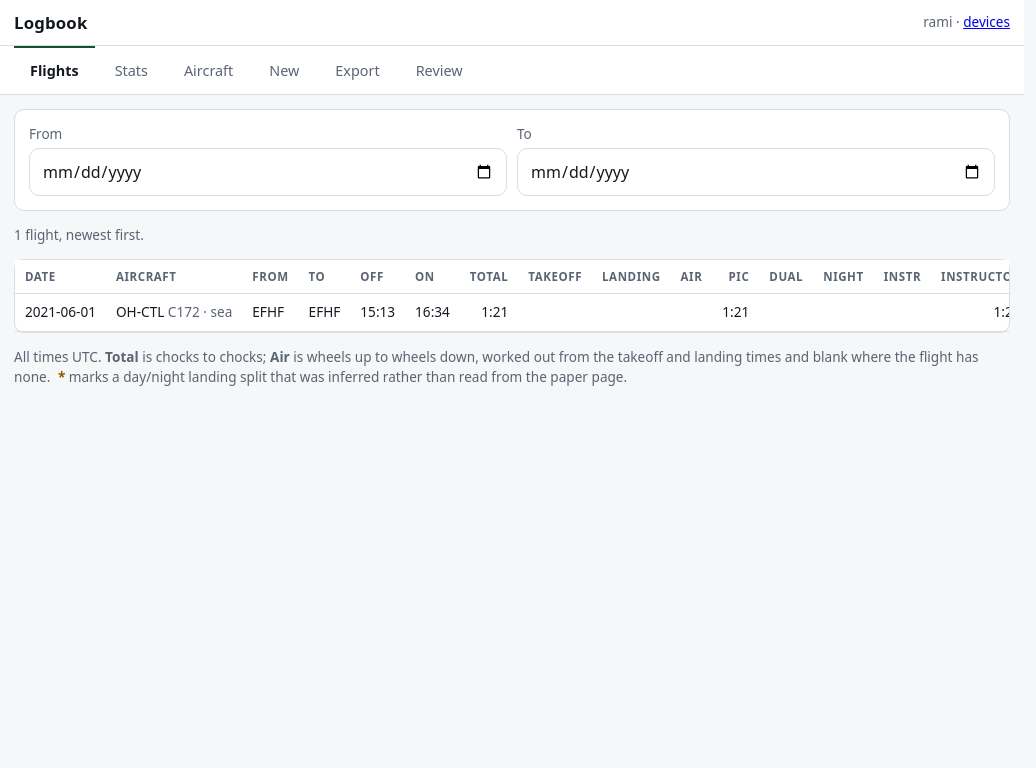
Test: the aircraft picker › shows the registration and nothing else
Click the link "New" at (284, 71), box [269,61,299,80]
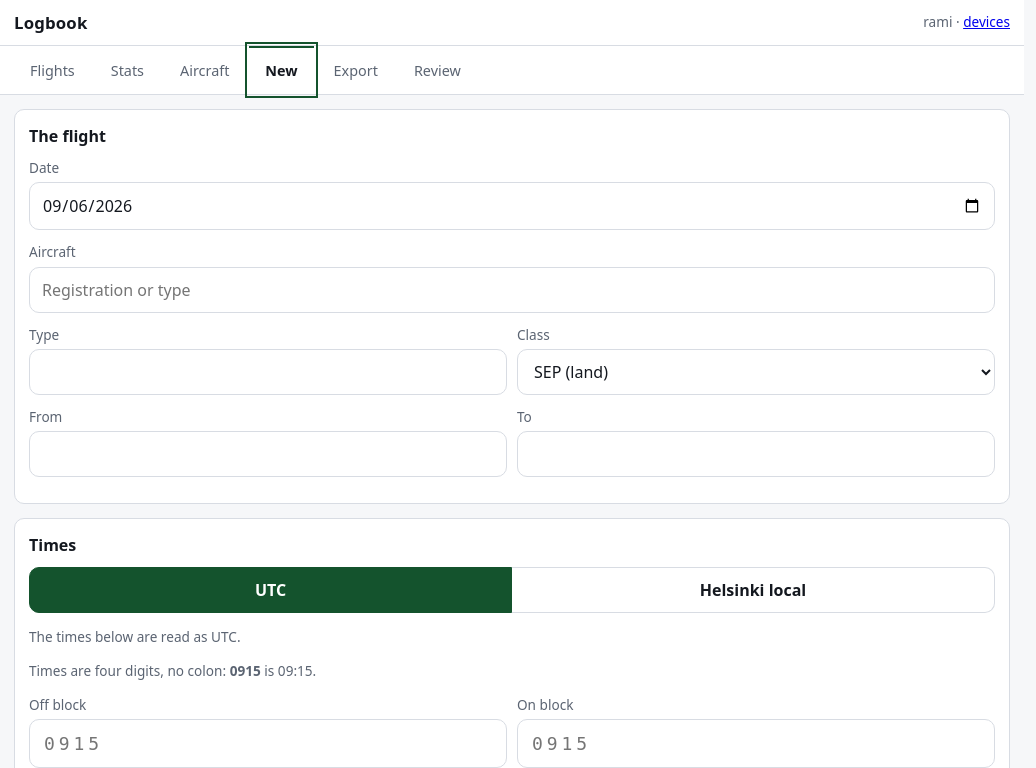
Click the dropdown labelled "Aircraft" at (512, 290), box [29,267,995,313]
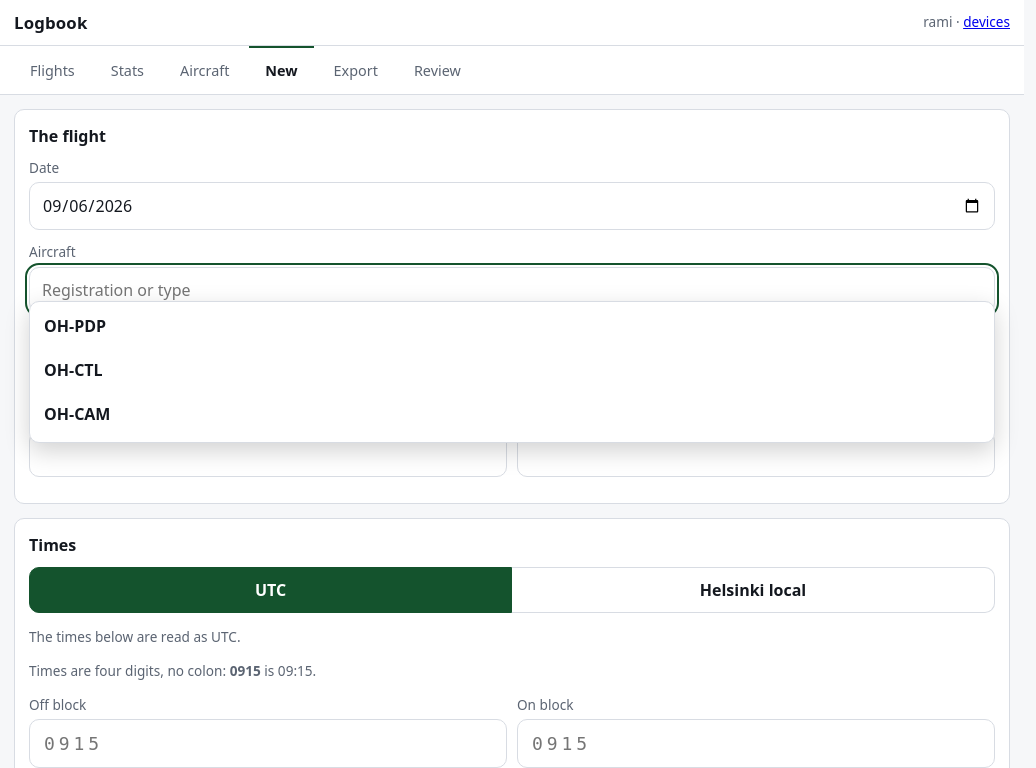
Expected: the options read "OH-PDP", "OH-CTL", "OH-CAM", in this order, [34,306,990,350]; [34,350,990,394]; [34,394,990,438]
